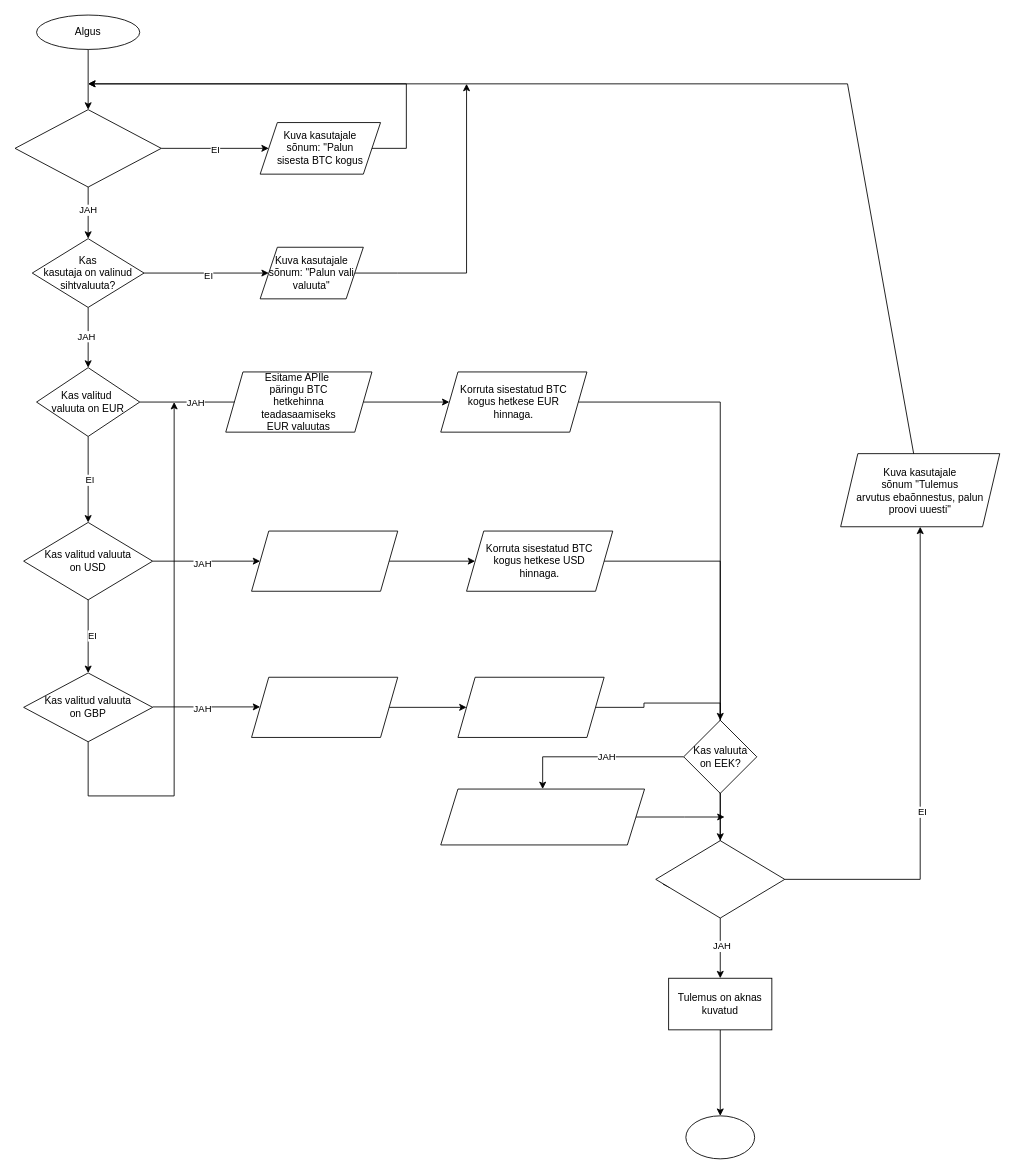
This 1015x1174 diagram has some shape labels left out. Each missing label, with the centre of its shape:
Esitame APIle päringu BTC hetkehinna teadasaamiseks GBP valuutas: the point at 324,706
Esitame APIle päringu BTC hetkehinna teadasaamiseks USD valuutas: the point at 324,560
Kas arvutus teostati edukalt?: the point at 720,879
kas kasutaja on sisestanud oma bitcoini koguse?: the point at 87,148
Korruta saadud tulemus läbi arvuga 15.6466: the point at 542,816
Korruta sisestatud BTC kogus hetkese GBP hinnaga.: the point at 530,706
Lõpp: the point at 720,1137
